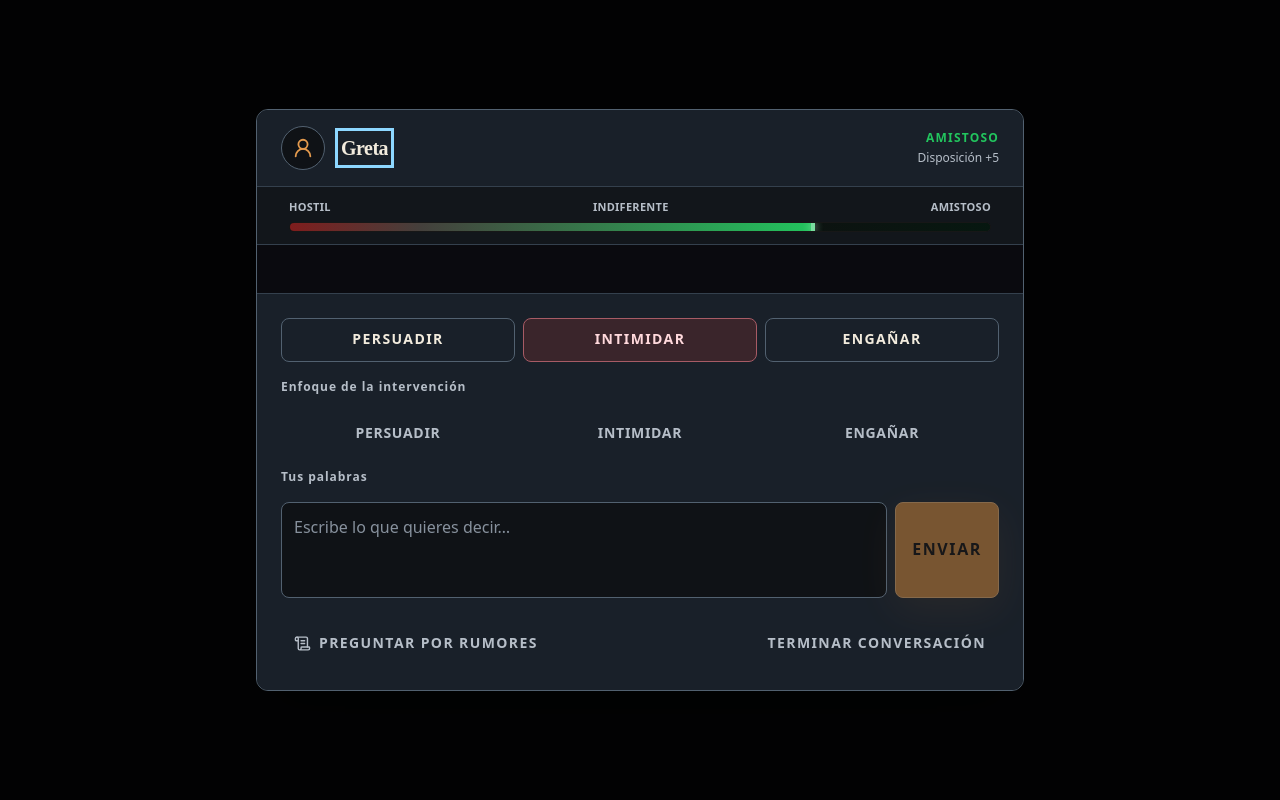
Scenario: DialogueOverlayController › shows a generic error and no unhandled rejection when fetch itself fails
Click the 1st button "Persuadir".
click(398, 340)  # box [281, 318, 515, 362]
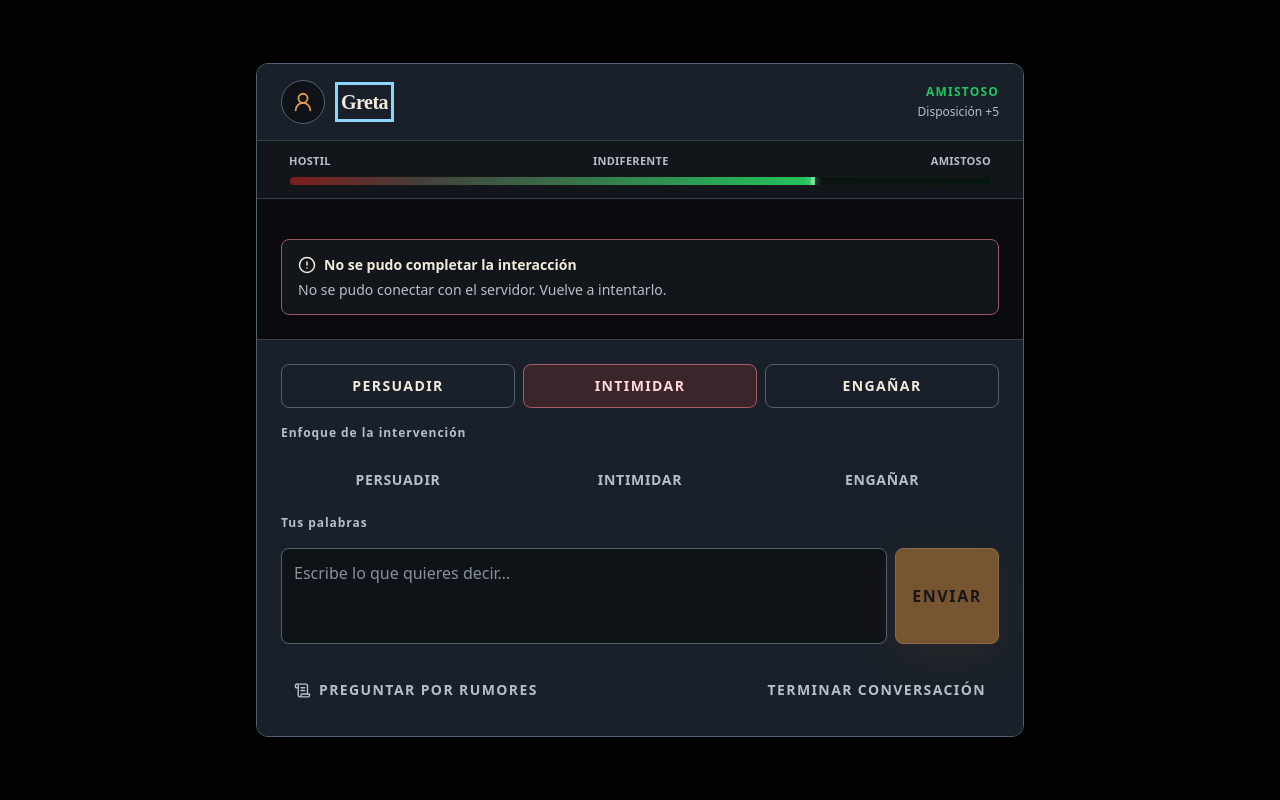
Check: the text "Disposición +5" is shown, box [918, 104, 999, 120]
Check: the text "No se pudo conectar con el servidor. Vuelve a intentarlo." is shown, box [298, 279, 666, 298]
